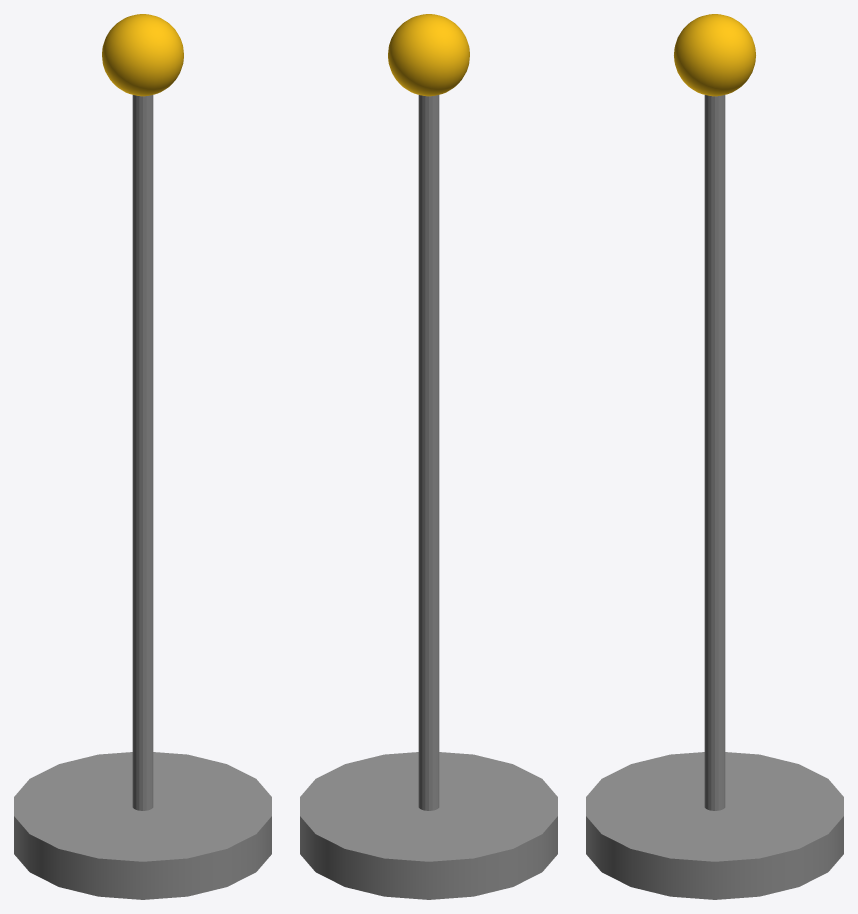
Rendered from BastaoBandeira.FBX.
3 renders of one model, left to right at view 1: azimuth 30°, elevation 25°; view 2: azimuth 150°, elevation 25°; view 3: azimuth 270°, elevation 25°, orthographic.
Visible parts, largest first — view 1: Cylinder011, Sphere002; view 2: Cylinder011, Sphere002; view 3: Cylinder011, Sphere002.
Part boxes in pixels (<box>): Cylinder011: <box>14,95,271,899</box>; Sphere002: <box>102,14,183,96</box>; Cylinder011: <box>300,95,557,899</box>; Sphere002: <box>388,14,469,96</box>; Cylinder011: <box>586,95,843,899</box>; Sphere002: <box>674,14,755,96</box>.
Size of the model in its own units: 31.24 by 109 by 30.76.
